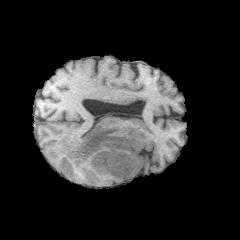glioma: (57, 125, 154, 181)
